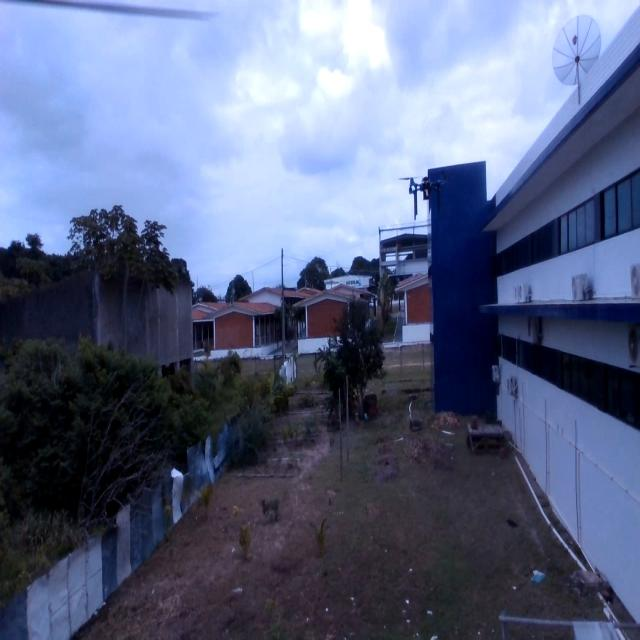-uav-: (393, 165, 456, 228)
